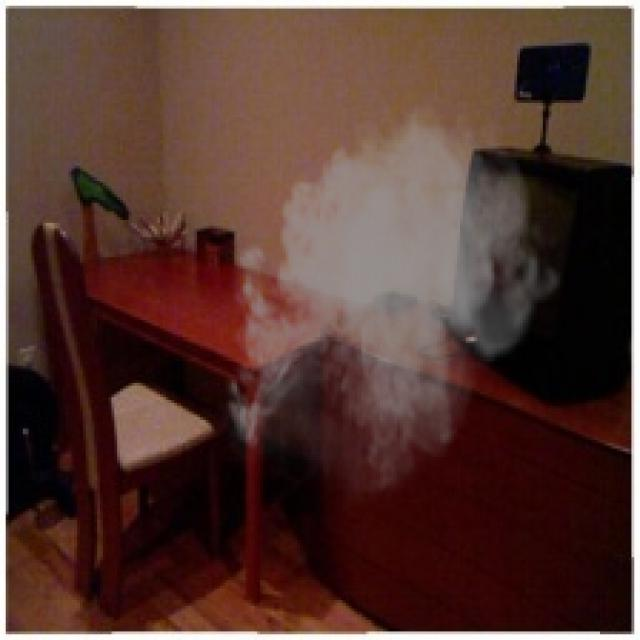smoke: (217, 92, 563, 517)
